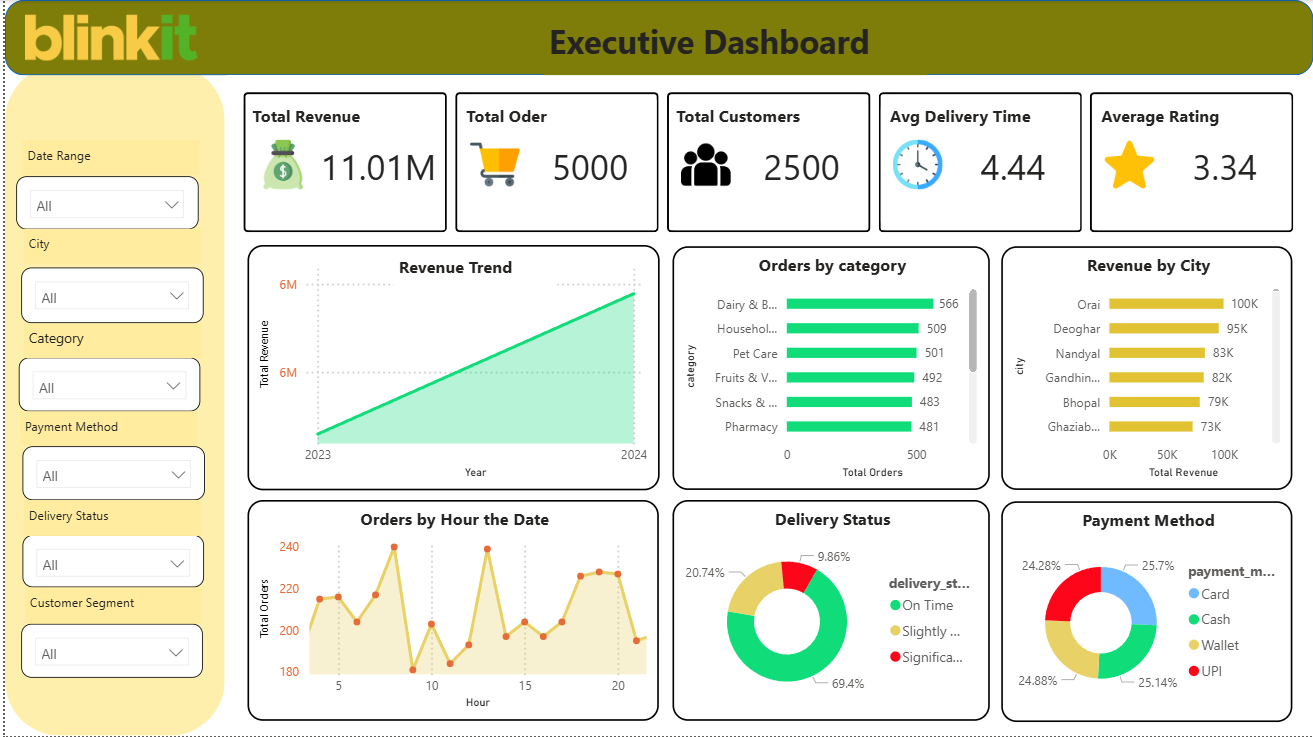

The page's visual inventory and layout, read from the dashboard file:
{"tool":"powerbi","page":{"name":"Blinkit ","canvas":[1280,720],"ordinal":0},"visuals":[{"type":"shape","box":[0,63.8,215,656.2],"z":0},{"type":"slicer","title":"Date Range","fields":{"Values":["orders.order_date"]},"box":[10.9,171.8,178.2,51.8],"z":1000},{"type":"slicer","title":"City","fields":{"Values":["customers.city"]},"box":[15.5,261.8,178.2,54.5],"z":2000},{"type":"slicer","title":"Category","fields":{"Values":["products.category"]},"box":[13.8,350,177.5,52.5],"z":3000},{"type":"shape","box":[0,0,1280,73.8],"z":4000},{"type":"slicer","title":"Payment Method","fields":{"Values":["orders.payment_method"]},"box":[17.5,436.2,178.8,52.5],"z":5000},{"type":"slicer","title":"Delivery Status","fields":{"Values":["delivery.delivery_status"]},"box":[17.5,523.8,177.5,51.2],"z":6000},{"type":"textbox","box":[18.2,223.6,173.6,34.5],"z":7000},{"type":"slicer","title":"Customer Segment","fields":{"Values":["customers.customer_segment"]},"box":[16.2,610,177.5,52.5],"z":8000},{"type":"textbox","box":[17.3,137.3,172.7,34.5],"z":9000},{"type":"textbox","box":[18.8,316.2,173.8,33.8],"z":10000},{"type":"textbox","box":[15,402.5,173.8,33.8],"z":11000},{"type":"textbox","box":[18.8,488.8,173.8,35],"z":12000},{"type":"textbox","box":[20,575,172.5,35],"z":13000},{"type":"cardVisual","fields":{"Data":["orders.Total Revenue","orders.Total Orders","orders.Total Customers","orders.Avg Delivery Time","orders.Average Rating"]},"box":[216.2,73.8,1063.8,171.2],"z":14000},{"type":"textbox","box":[237.1,97.1,183.6,32.1],"z":15000},{"type":"textbox","box":[446.9,96.9,160.8,36.9],"z":16000},{"type":"textbox","box":[652.3,96.9,162.3,36.9],"z":17000},{"type":"textbox","box":[860.8,96.9,160.8,37.7],"z":18000},{"type":"textbox","box":[1067,97,161,38],"z":19000},{"type":"lineChart","fields":{"Category":["orders.order_date.Variation.Date Hierarchy.Year","orders.order_date.Variation.Date Hierarchy.Quarter","orders.order_date.Variation.Date Hierarchy.Month","orders.order_date.Variation.Date Hierarchy.Day"],"Y":["orders.Total Revenue"]},"box":[237.1,240,402.9,240],"z":20000},{"type":"textbox","box":[380,244.5,160,36.4],"z":21000},{"type":"clusteredBarChart","title":" Orders by category","fields":{"Category":["products.category"],"Y":["orders.Total Orders"]},"box":[652.5,241.2,310,238.8],"z":22000},{"type":"clusteredBarChart","title":"Revenue by City","fields":{"Category":["customers.city"],"Y":["orders.Total Revenue"]},"box":[975,241.2,285,238.8],"z":23000},{"type":"lineChart","title":"Orders by Hour the Date","fields":{"Category":["orders.Hour"],"Y":["orders.Total Orders"]},"box":[237.5,488.8,402.5,216.2],"z":24000},{"type":"donutChart","title":"Delivery Status","fields":{"Category":["delivery.delivery_status"],"Y":["CountNonNull(orders.order_id)"]},"box":[652.5,488.8,310,216.2],"z":25000},{"type":"donutChart","title":"Payment Method","fields":{"Category":["orders.payment_method"],"Y":["CountNonNull(orders.order_id)"]},"box":[975,490,285,216.2],"z":26000},{"type":"textbox","box":[527.5,13.8,375,60],"z":27000},{"type":"image","box":[20,0,168.8,73.8],"z":28000}]}

Visuals, with their boxes in screenshot pixels (x1, y1, x2, y2), scaled from the page's 1280x720 canvas onto the 1313x737 screenshot:
shape: region(0, 65, 221, 736)
"Date Range" slicer: region(11, 176, 194, 229)
"City" slicer: region(16, 268, 199, 324)
"Category" slicer: region(14, 358, 196, 412)
shape: region(0, 0, 1312, 76)
"Payment Method" slicer: region(18, 446, 201, 500)
"Delivery Status" slicer: region(18, 536, 200, 589)
textbox: region(19, 229, 197, 264)
"Customer Segment" slicer: region(17, 624, 199, 678)
textbox: region(18, 141, 195, 176)
textbox: region(19, 324, 198, 358)
textbox: region(15, 412, 194, 447)
textbox: region(19, 500, 198, 536)
textbox: region(21, 589, 197, 624)
cardVisual - orders.Total Revenue x orders.Total Orders: region(222, 76, 1312, 251)
textbox: region(243, 99, 432, 132)
textbox: region(458, 99, 623, 137)
textbox: region(669, 99, 836, 137)
textbox: region(883, 99, 1048, 138)
textbox: region(1095, 99, 1260, 138)
lineChart - orders.order_date.Variation.Date Hierarchy.Year x orders.order_date.Variation.Date Hierarchy.Quarter: region(243, 246, 656, 491)
textbox: region(390, 250, 554, 288)
" Orders by category" clusteredBarChart: region(669, 247, 987, 491)
"Revenue by City" clusteredBarChart: region(1000, 247, 1292, 491)
"Orders by Hour the Date" lineChart: region(244, 500, 656, 722)
"Delivery Status" donutChart: region(669, 500, 987, 722)
"Payment Method" donutChart: region(1000, 502, 1292, 723)
textbox: region(541, 14, 926, 76)
image: region(21, 0, 194, 76)
